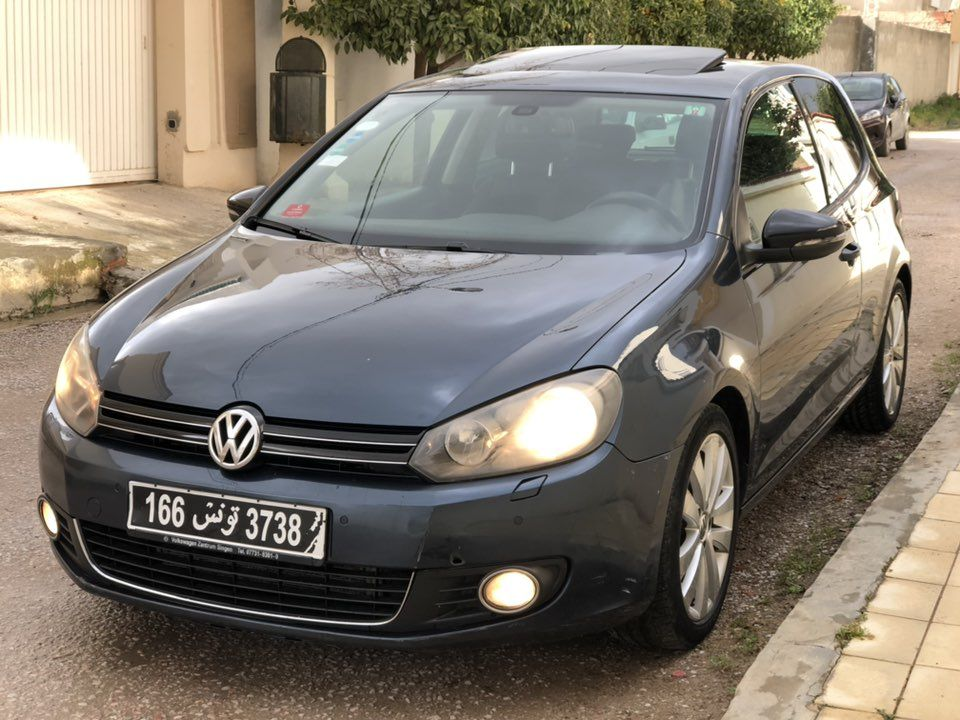LP: (125, 477, 327, 567)
